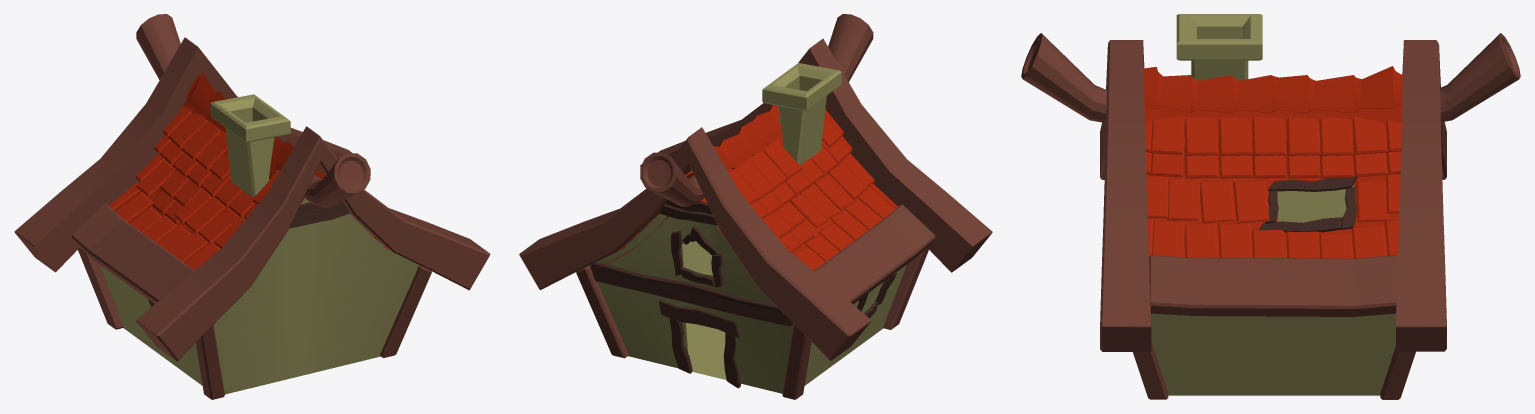
File: HUT.fbx
The picture shows the model from 3 angles, left to right: view 1: azimuth 30°, elevation 25°; view 2: azimuth 150°, elevation 25°; view 3: azimuth 270°, elevation 25°; orthographic projection. The views are drawn at different scales.
Parts seen in each view (by area): view 1: polySurface1, pCube119, pCube118, pCube120, pCube116, polySurface15, polySurface10, pCylinder4, pCylinder3, polySurface12, pCube121, pCube122 (+20 smaller); view 2: polySurface3, pCube118, pCube119, pCube117, pCube116, polySurface15, pCube98, pCylinder3, polySurface12, pCylinder4, polySurface8, polySurface10 (+27 smaller); view 3: polySurface5, pCube115, pCube120, pCube117, polySurface12, polySurface15, polySurface11, pCylinder4, pCylinder3, polySurface18, pCube36, pCube35 (+32 smaller).
Part boxes in pixels (x1,y1,x2,y2): polySurface1: (213, 213, 419, 394); pCube119: (136, 126, 320, 361); pCube118: (14, 37, 198, 272); pCube120: (309, 128, 490, 290); pCube116: (72, 204, 194, 303); polySurface15: (210, 94, 290, 207); polySurface10: (100, 265, 202, 385); pCylinder4: (304, 153, 370, 207); pCylinder3: (136, 14, 180, 79); polySurface12: (186, 72, 325, 176); pCube121: (380, 265, 431, 357); pCube122: (195, 325, 224, 399); polySurface3: (589, 213, 793, 393); pCube118: (687, 127, 871, 360); pCube119: (809, 38, 992, 272); pCube117: (519, 137, 691, 289); pCube116: (813, 204, 935, 304); polySurface15: (762, 63, 841, 165); pCube98: (590, 262, 793, 326); pCylinder3: (640, 152, 704, 206); polySurface12: (684, 105, 781, 175); pCylinder4: (828, 14, 873, 81); polySurface8: (686, 323, 726, 379); polySurface10: (804, 265, 906, 385); polySurface5: (1150, 313, 1396, 395); pCube115: (1149, 255, 1397, 316); pCube120: (1100, 40, 1151, 351); pCube117: (1396, 40, 1446, 351); polySurface12: (1143, 66, 1402, 113); polySurface15: (1176, 14, 1262, 80); polySurface11: (1144, 105, 1402, 258); pCylinder4: (1021, 33, 1106, 122); pCylinder3: (1440, 33, 1520, 122); polySurface18: (1277, 184, 1353, 222); pCube36: (1233, 179, 1269, 223); pCube35: (1200, 180, 1234, 223).
Size of the model in its own units: 22.91 by 17.15 by 24.59.
